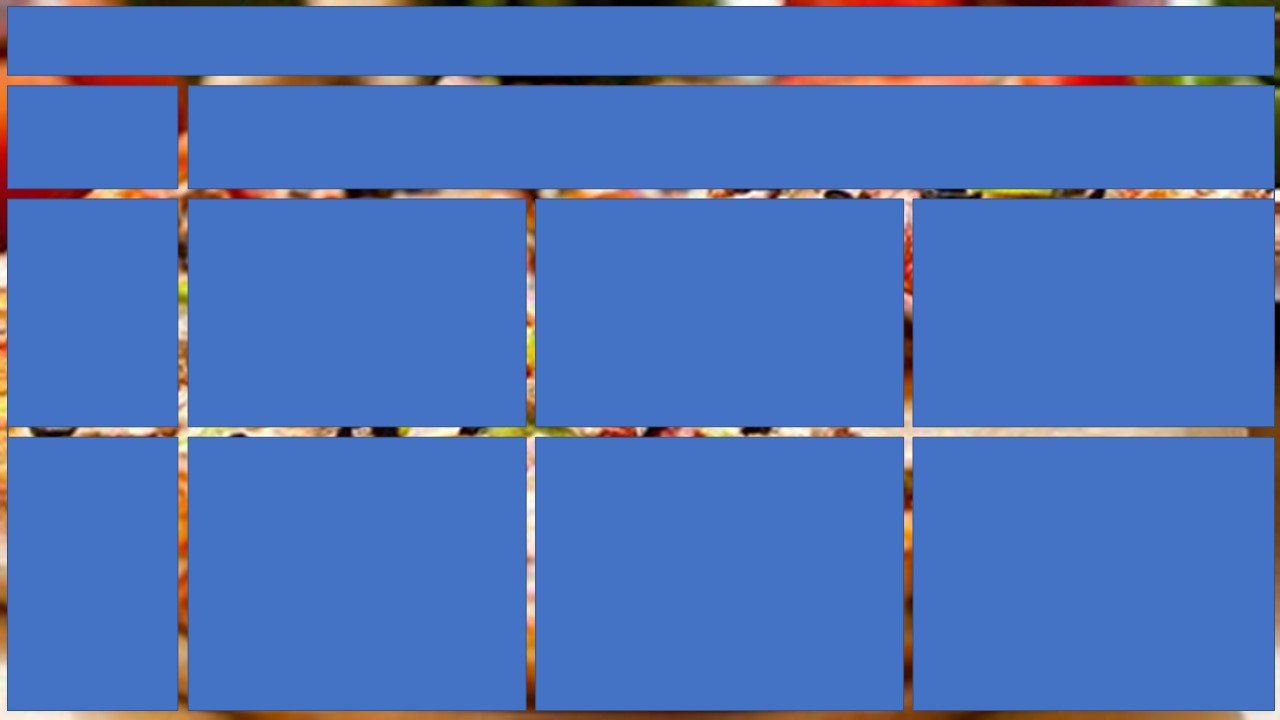

The page's visual inventory and layout, read from the dashboard file:
{"tool":"tableau","page":{"name":"Dashboard 1","canvas":[1000,1000],"units":"permille","ordinal":0},"visuals":[{"type":"image","param":"C:/Users/Hp/Desktop/2024/PROJECTS/Dashboard Templates/Dashboard Templates/Slide2","box":[2.3,7.3,895.9,962.1]},{"type":"image","param":"C:/Users/Hp/Downloads/linkedin.jpeg","box":[33.3,17.5,57.5,81.5]},{"type":"image","param":"C:/Users/Hp/Downloads/github.jpg","box":[128.5,17.5,55.9,83]},{"type":"image","param":"C:/Users/Hp/Downloads/pizza-logo-vector-13019707.jpg","box":[238.8,20.4,55.2,75.7]},{"type":"text","box":[297.8,21.8,293.3,69.9]},{"type":"image","param":"C:/Users/Hp/Downloads/pizza-logo-vector-13019707.jpg","box":[594,21.8,55.1,75.7]},{"type":"text","box":[653.1,29.1,232.1,53.9]},{"type":"text","box":[136.6,115,141.1,149.9]},{"type":"text","box":[277,116.5,141.9,149.9]},{"type":"text","box":[698.1,116.5,184.9,149.9]},{"type":"image","param":"C:/Users/Hp/Downloads/Picture1.png","box":[11.3,117.9,115.7,62.6]},{"type":"blank","box":[135.1,117.9,150.9,149.9]},{"type":"text","box":[417.4,117.9,147.2,149.9]},{"type":"text","box":[561.5,117.9,147.2,149.9]},{"type":"dashboard-object","box":[3.8,183.4,124,75.7]},{"type":"image","param":"C:/Users/Hp/Downloads/Picture2.png","box":[16.6,186.3,96,87.3]},{"type":"worksheet","title":"Total Pizza's Sold by Hour","mark":"Bar","rows":["Calculation_958422341743099906"],"cols":["order_time"],"box":[135.8,283.8,372.8,299.9]},{"type":"worksheet","title":"Total Orders By Week","mark":"Area","rows":["Calculation_958422341743243267"],"cols":["order_date","order_date"],"box":[520,283.8,362.3,298.4]},{"type":"image","param":"C:/Users/Hp/Downloads/Picture3.png","box":[10.6,312.9,111.9,243.1]},{"type":"worksheet","title":"Sales by Pizza Category","mark":"Automatic","box":[135.1,601.2,230.9,363.9]},{"type":"worksheet","title":"Total Order's and Pizza's Sold by Pizza Category","mark":"Automatic","rows":["pizza_category"],"box":[630.9,601.2,251.3,353.7]},{"type":"worksheet","title":"Sales by Pizza Size","mark":"Automatic","box":[372.1,602.6,252.8,353.7]},{"type":"image","param":"C:/Users/Hp/Downloads/Picture4.png","box":[10.6,653.6,113.4,269.3]}]}

Visuals, with their boxes on the dashboard's canvas, which has no fixed pixel size, in thousandths of its width and height (x1, y1, x2, y2). These are canvas units, not pixel positions in the 1280x720 screenshot, which may show the page scaled, cropped or inside an application window:
image: (left=2, top=7, right=898, bottom=969)
image: (left=33, top=18, right=91, bottom=99)
image: (left=128, top=18, right=184, bottom=100)
image: (left=239, top=20, right=294, bottom=96)
text: (left=298, top=22, right=591, bottom=92)
image: (left=594, top=22, right=649, bottom=98)
text: (left=653, top=29, right=885, bottom=83)
text: (left=137, top=115, right=278, bottom=265)
text: (left=277, top=116, right=419, bottom=266)
text: (left=698, top=116, right=883, bottom=266)
image: (left=11, top=118, right=127, bottom=180)
blank: (left=135, top=118, right=286, bottom=268)
text: (left=417, top=118, right=565, bottom=268)
text: (left=562, top=118, right=709, bottom=268)
dashboard-object: (left=4, top=183, right=128, bottom=259)
image: (left=17, top=186, right=113, bottom=274)
"Total Pizza's Sold by Hour" worksheet (Bar marks): (left=136, top=284, right=509, bottom=584)
"Total Orders By Week" worksheet (Area marks): (left=520, top=284, right=882, bottom=582)
image: (left=11, top=313, right=122, bottom=556)
"Sales by Pizza Category" worksheet: (left=135, top=601, right=366, bottom=965)
"Total Order's and Pizza's Sold by Pizza Category" worksheet: (left=631, top=601, right=882, bottom=955)
"Sales by Pizza Size" worksheet: (left=372, top=603, right=625, bottom=956)
image: (left=11, top=654, right=124, bottom=923)
